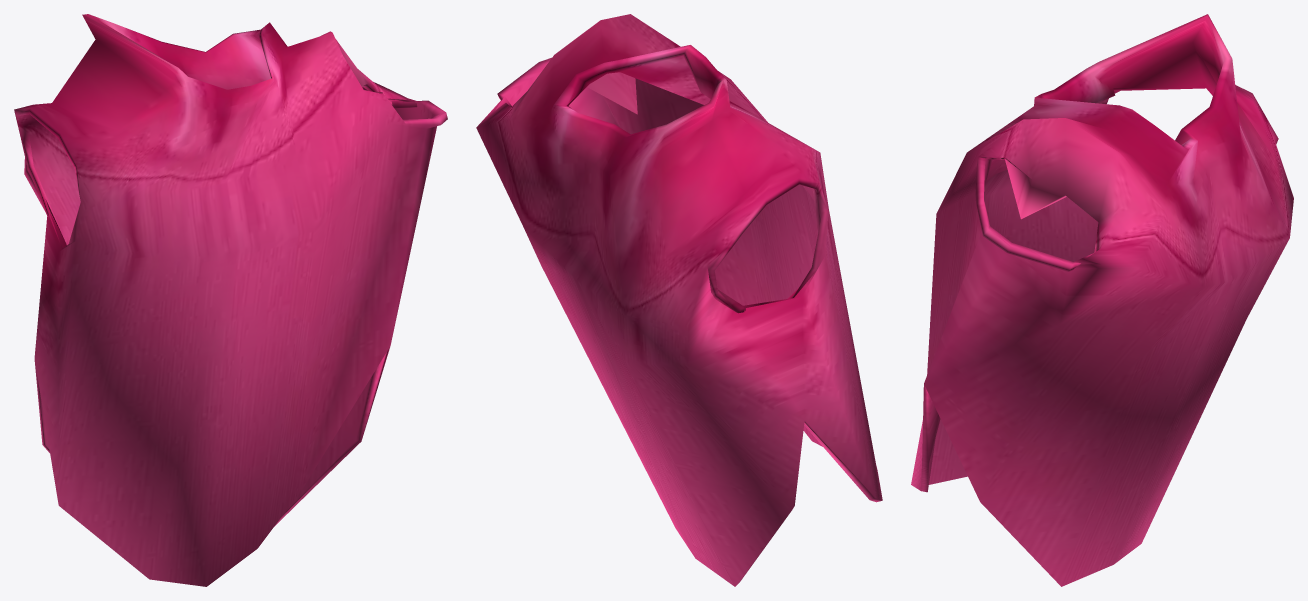
The model's file is m-top7.fbx.
The picture shows the model from 3 angles, left to right: view 1: azimuth 30°, elevation 25°; view 2: azimuth 150°, elevation 25°; view 3: azimuth 270°, elevation 25°; orthographic projection. The views are drawn at different scales.
Visible parts, largest first — view 1: M.Top.Short.010; view 2: M.Top.Short.010; view 3: M.Top.Short.010.
Boxes of the visible parts, box(x1,y1,x2,y2) form: M.Top.Short.010: box(14, 14, 447, 586); M.Top.Short.010: box(476, 14, 882, 586); M.Top.Short.010: box(911, 14, 1293, 586).
Size of the model in its own units: 386 by 500 by 331.
